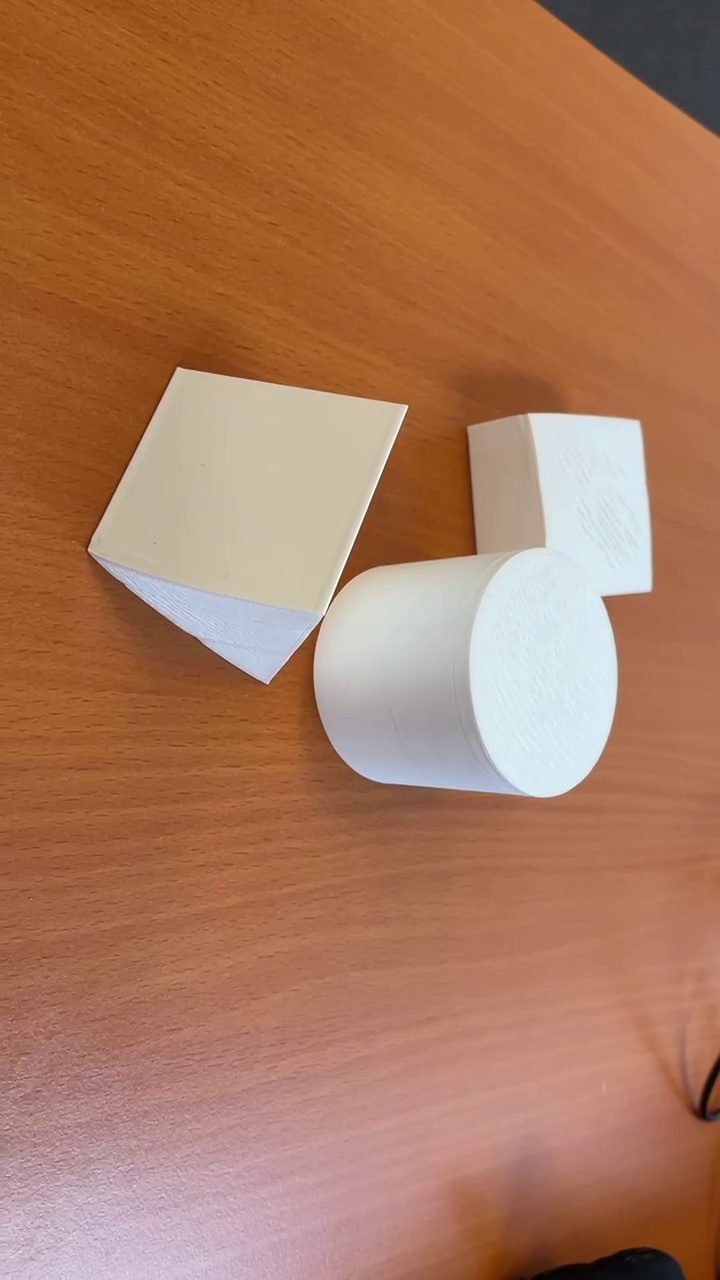Cube_short: (464, 412, 654, 601)
Cylinder: (312, 549, 620, 800)
Triangle: (87, 361, 409, 687)
